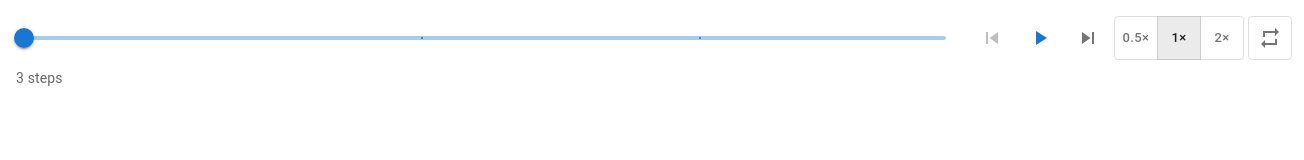
Test: PlaybackBoard › announces the step in a polite live region, once per step
The width and height of the screenshot is (1304, 160).
Expected: the text "3 steps" is shown, [16,70,63,86]
Click the button named "Play" at [1040, 38], box [1018,16,1062,60]
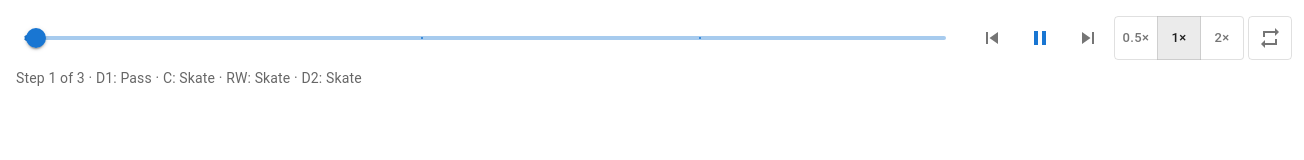
Expected: the text "Step 1 of 3 · D1: Pass · C: Skate · RW: Skate · D2: Skate" is shown, [16,70,362,86]
